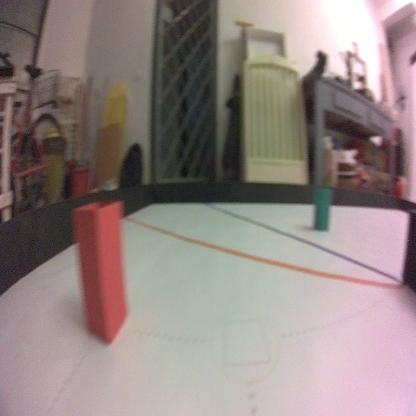green: (314, 187, 332, 234)
red: (71, 199, 130, 348)
